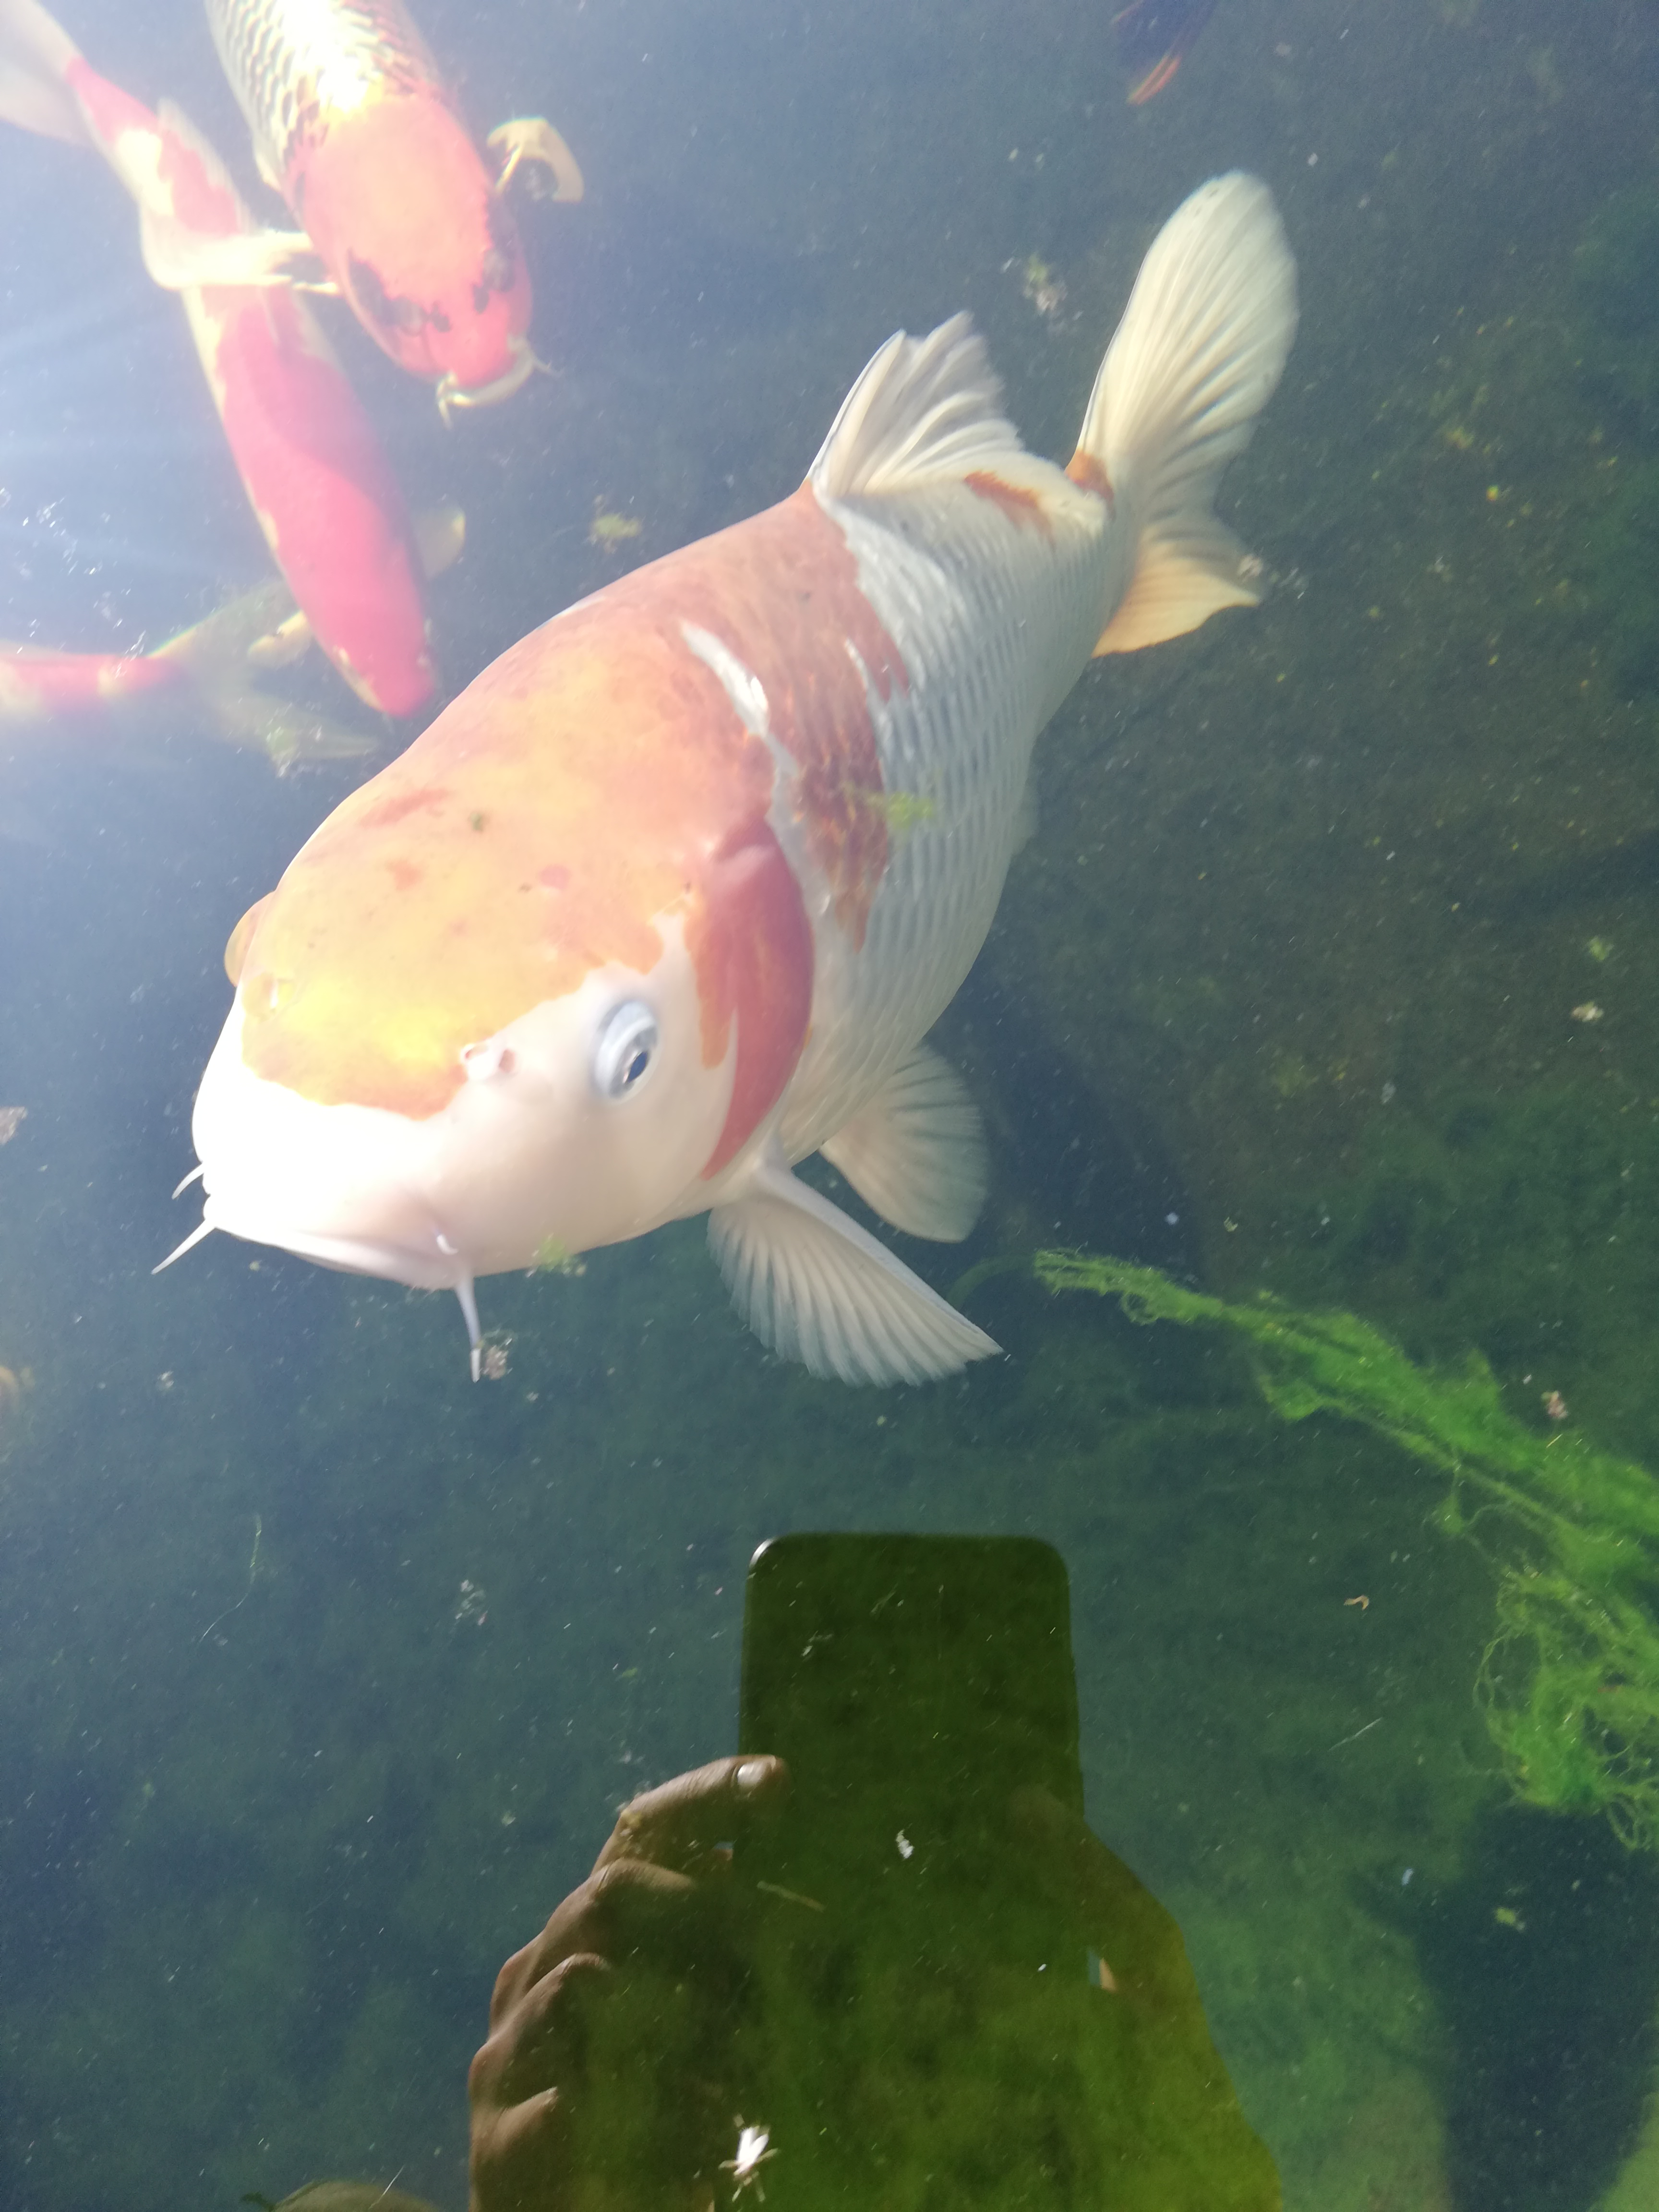Sparkle: (101, 165, 1321, 1413)
